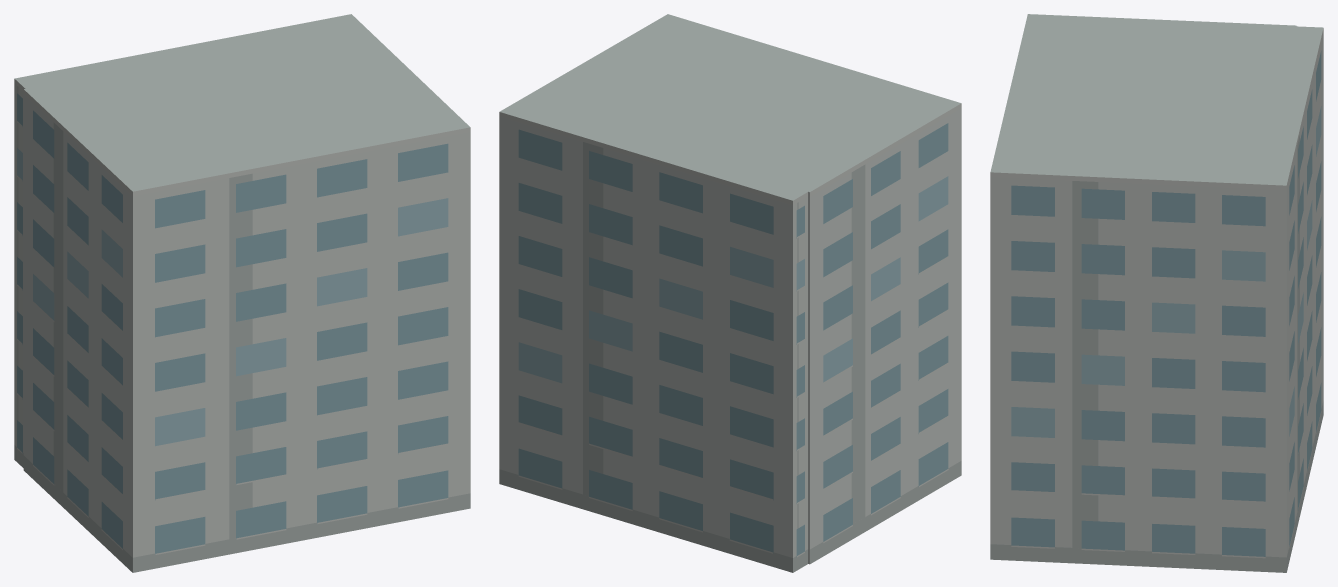
File: survey-upis-32680878.glb
The picture shows the model from 3 angles, left to right: view 1: azimuth 30°, elevation 25°; view 2: azimuth 150°, elevation 25°; view 3: azimuth 270°, elevation 25°; orthographic projection. The views are drawn at different scales.
Visible parts, largest first — view 1: survey-upis-32680878.tmp; view 2: survey-upis-32680878.tmp; view 3: survey-upis-32680878.tmp.
Part boxes in pixels (x1,y1,x2,y2): survey-upis-32680878.tmp: [14, 14, 470, 572]; survey-upis-32680878.tmp: [499, 14, 961, 572]; survey-upis-32680878.tmp: [990, 14, 1323, 572].
Size of the model in its own units: 18.64 by 19.6 by 15.29.
